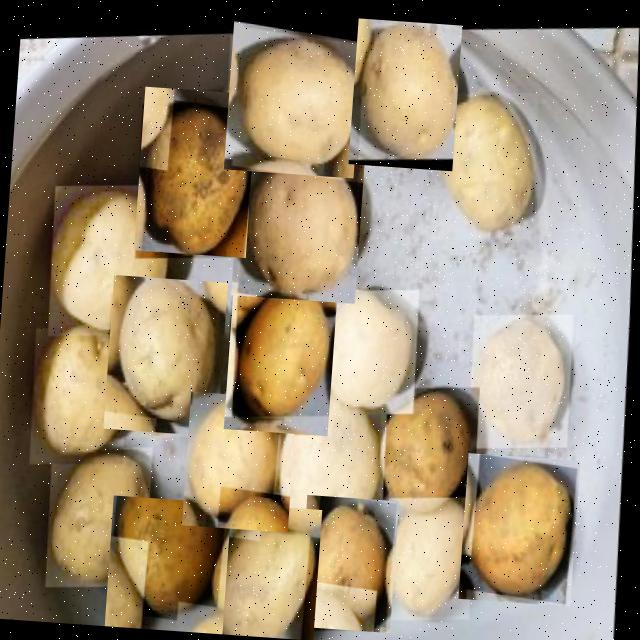Potato: (46, 165, 179, 334), (222, 18, 362, 177), (267, 371, 394, 543), (230, 140, 364, 302), (132, 86, 255, 256), (102, 273, 226, 435), (430, 83, 547, 245), (457, 452, 579, 605), (41, 427, 158, 583), (103, 494, 230, 634), (346, 17, 462, 170), (222, 280, 336, 435), (465, 304, 580, 454), (27, 308, 136, 460), (204, 501, 322, 640), (180, 390, 296, 531), (371, 374, 484, 518), (313, 276, 426, 416), (296, 494, 398, 632), (378, 486, 479, 622)
